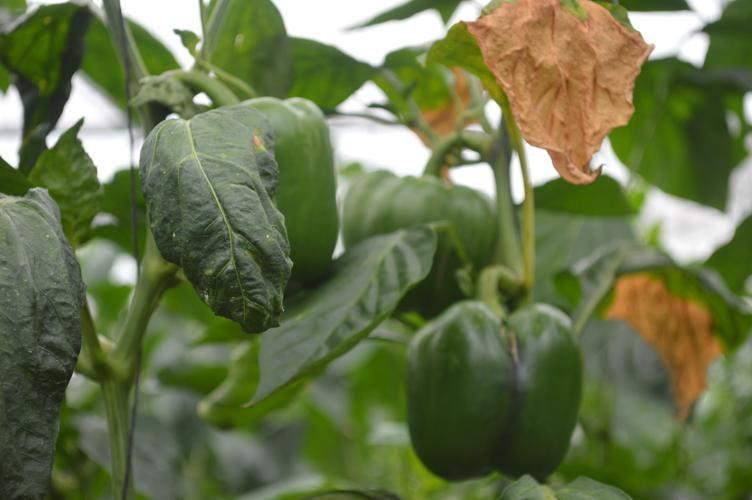BellPepper: (396, 298, 585, 488), (339, 162, 504, 320), (197, 97, 339, 279)
